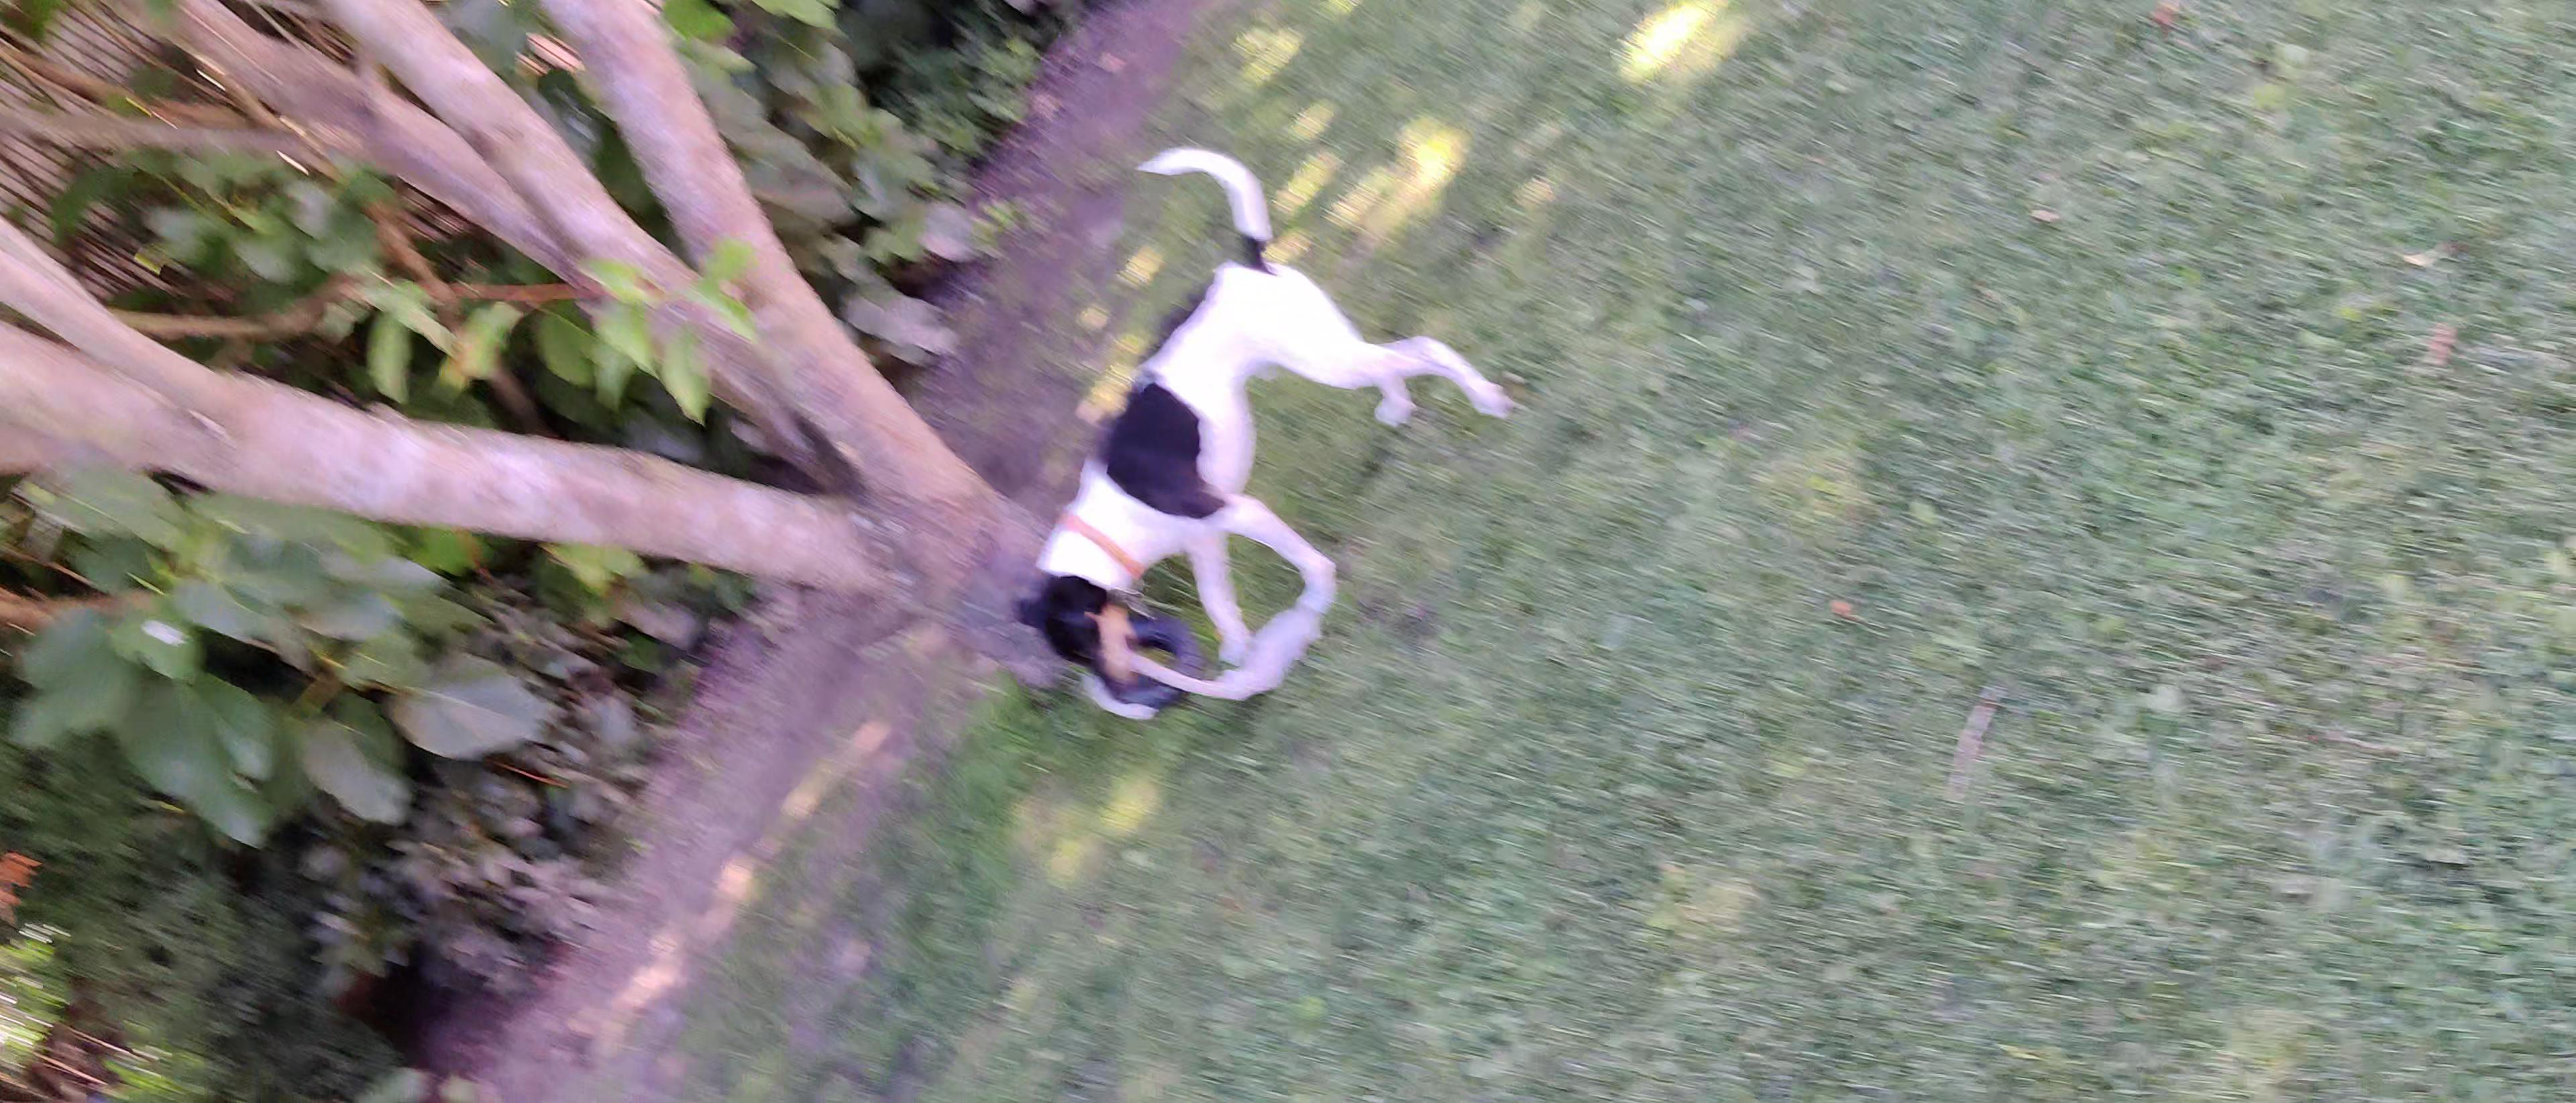Dog: (997, 122, 1549, 741)
